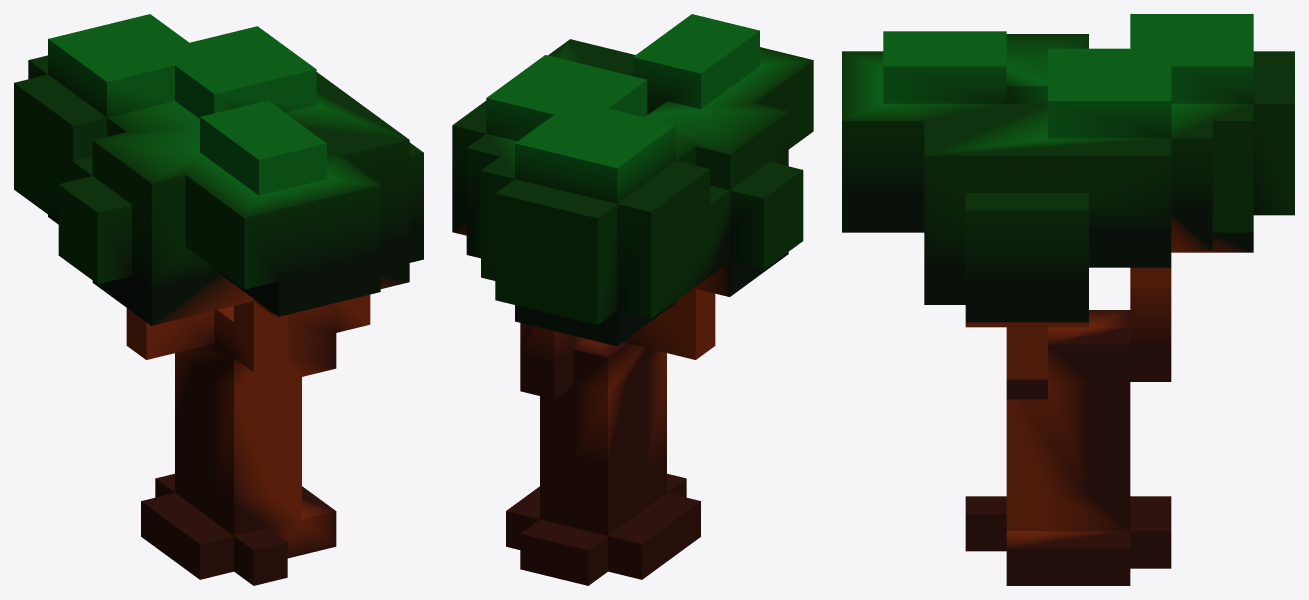
File: Tree_4.fbx
3 views of the same model, side by side, from view 1: azimuth 30°, elevation 25°; view 2: azimuth 150°, elevation 25°; view 3: azimuth 270°, elevation 25° (orthographic). The views are drawn at different scales.
Visible parts, largest first — view 1: Tree_4; view 2: Tree_4; view 3: Tree_4.
Part boxes in pixels (x1,y1,x2,y2): Tree_4: (14,14,423,585); Tree_4: (452,14,813,585); Tree_4: (842,14,1294,585).
Bounding box in the file's own units: 286 × 413 × 349.
